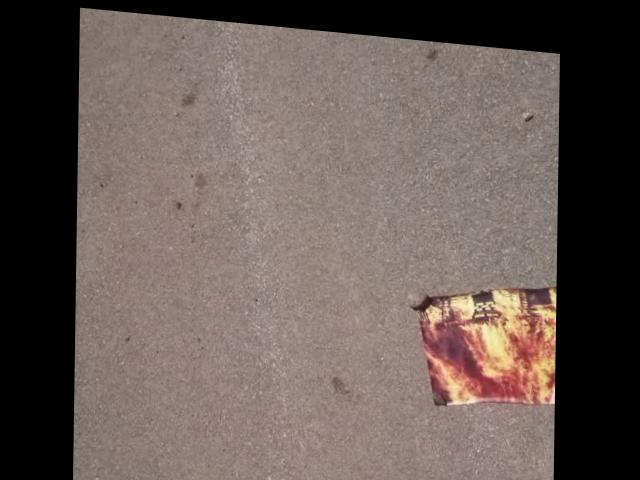fire-poster: (409, 259, 556, 407)
